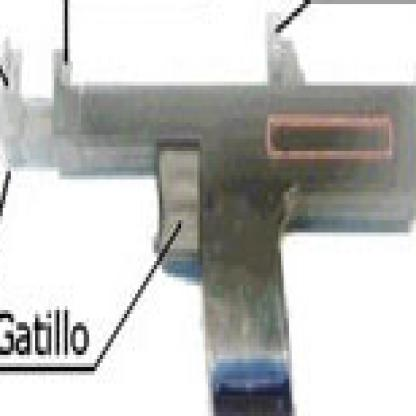gun: (0, 8, 414, 413)
